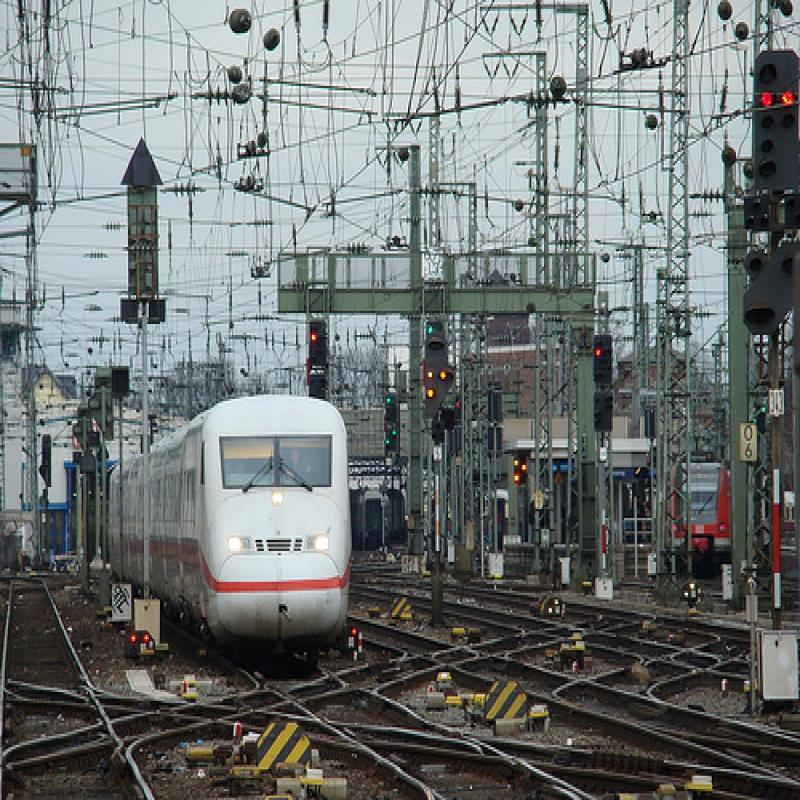train: (108, 394, 353, 645), (670, 462, 734, 557)
